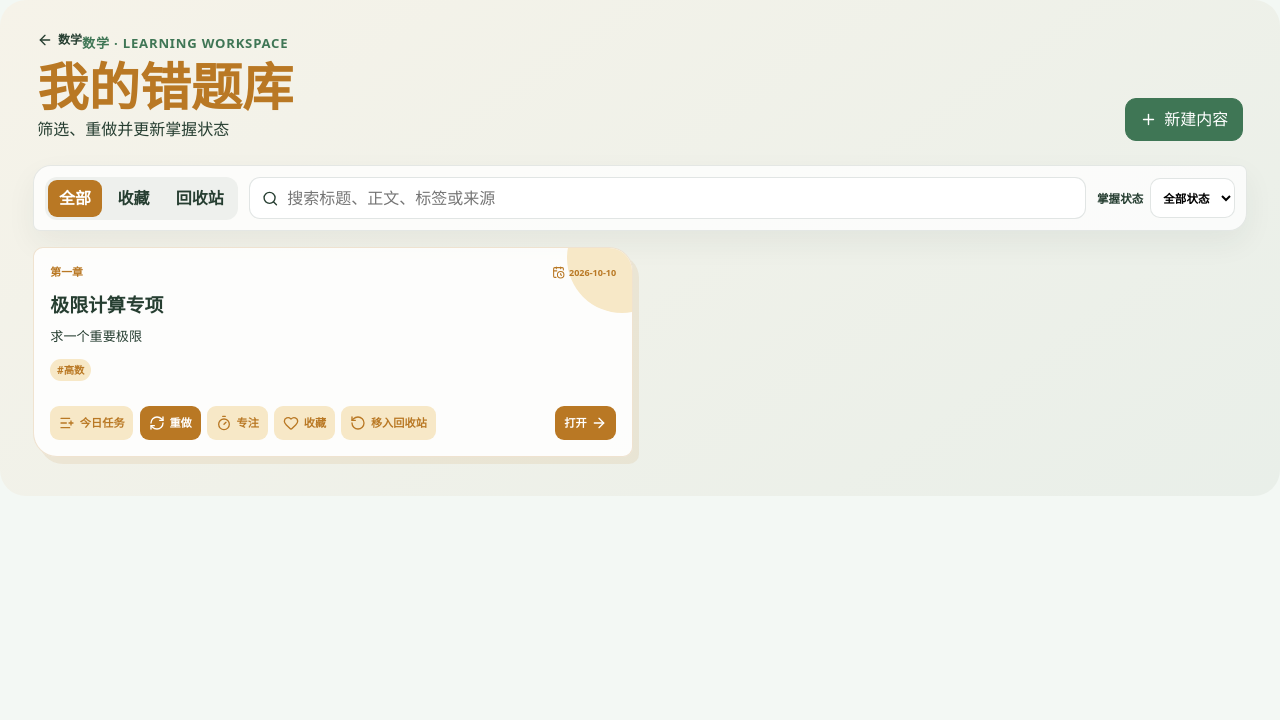
Test: StudyWorkspacePage › adds a learning item to today and prepares a focused session
Expected: the heading "极限计算专项" is shown, [50, 292, 164, 318]
Click the button with aria-label "加入今日任务 极限计算专项" at [92, 423], box [50, 406, 134, 440]
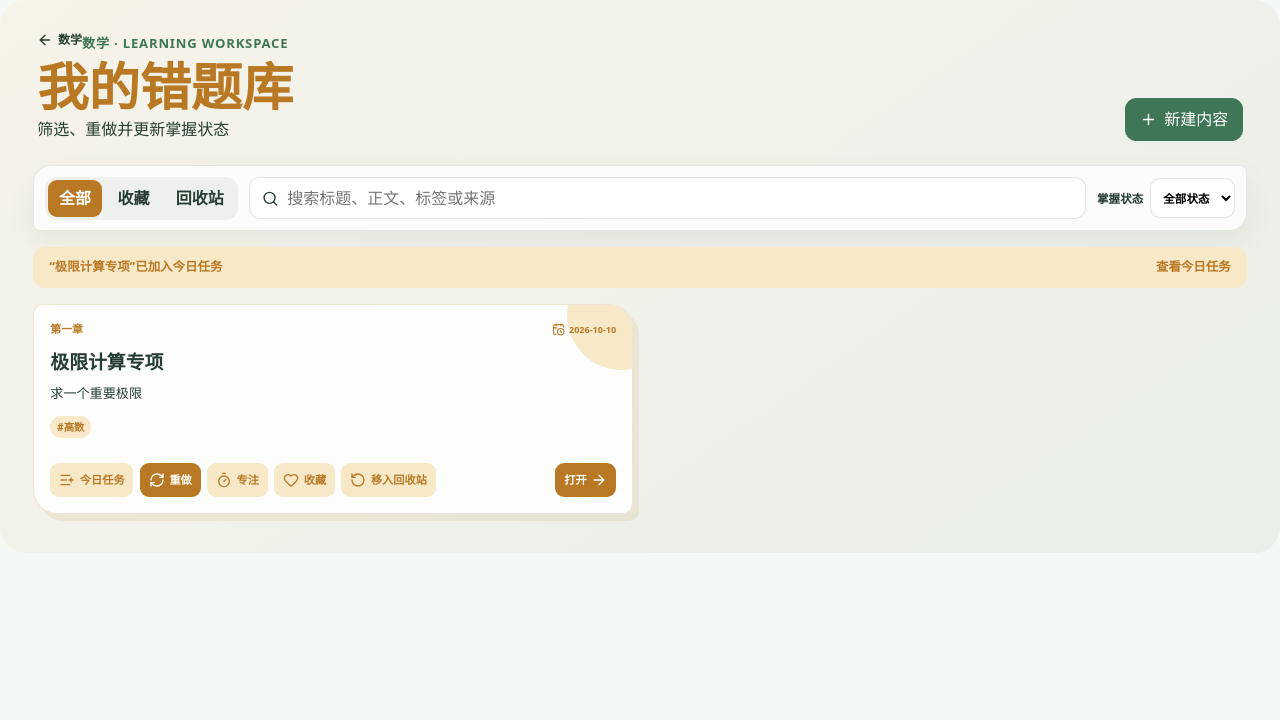
Expected: the message shows "已加入今日任务", [49, 258, 222, 275]
